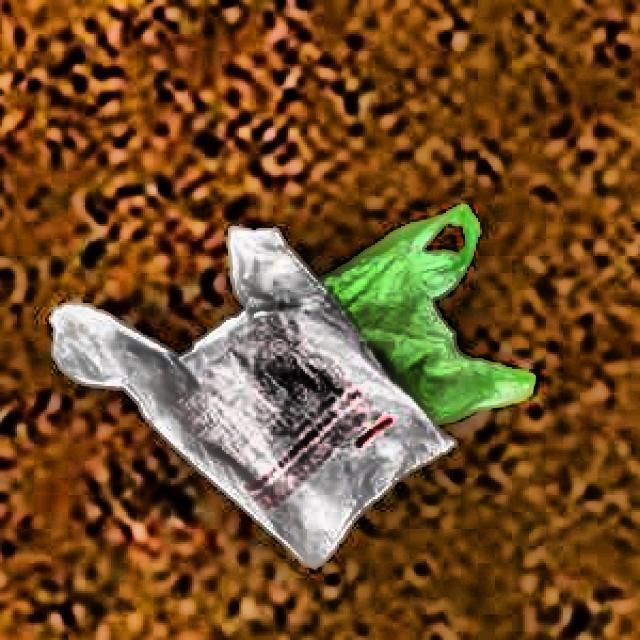Plastic: (36, 215, 455, 575), (266, 205, 539, 459)
